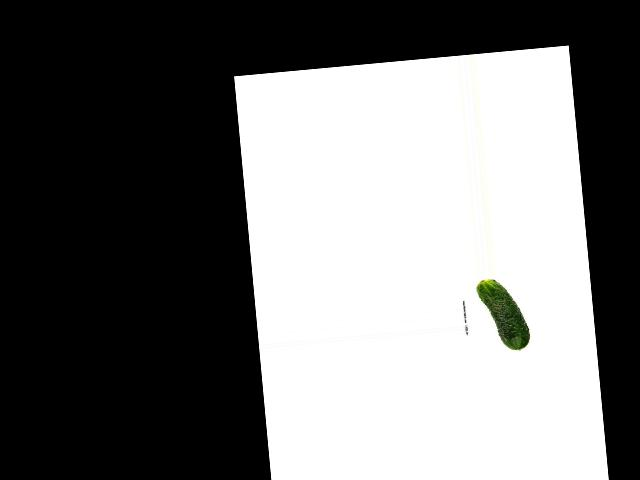cucumber: (475, 276, 531, 353)
